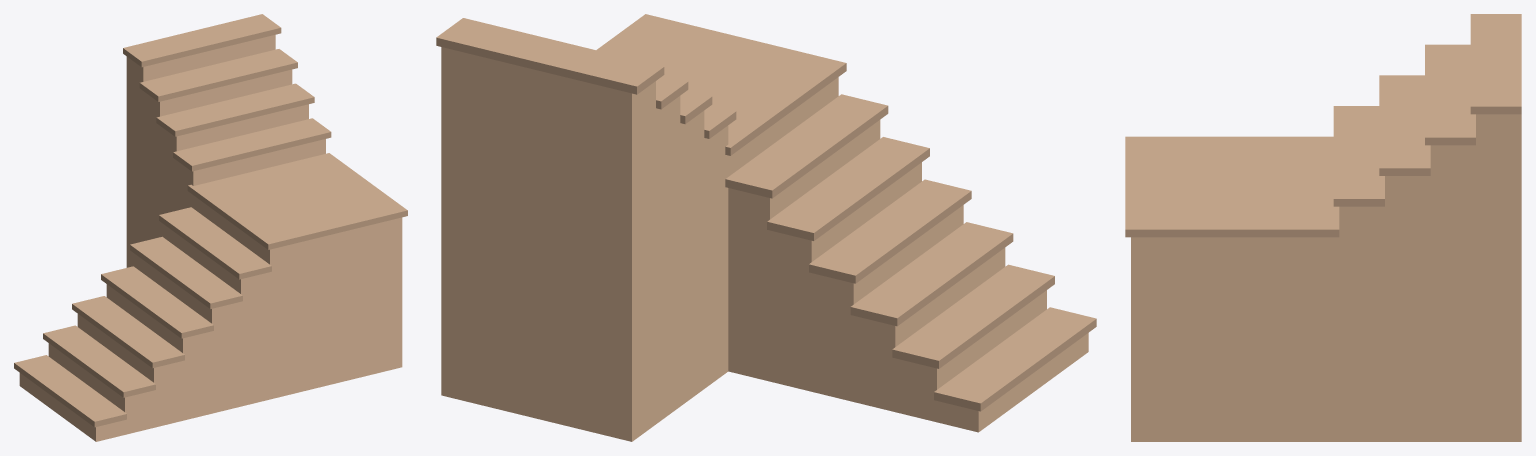
The model's file is stairsCorner.glb.
3 views of the same model, side by side, from view 1: azimuth 30°, elevation 25°; view 2: azimuth 150°, elevation 25°; view 3: azimuth 270°, elevation 25° (orthographic). The views are drawn at different scales.
Visible parts, largest first — view 1: stairsCorner(Clone); view 2: stairsCorner(Clone); view 3: stairsCorner(Clone).
Boxes of the visible parts, bbox=[...] form: stairsCorner(Clone): bbox=[14, 14, 407, 441]; stairsCorner(Clone): bbox=[436, 14, 1096, 441]; stairsCorner(Clone): bbox=[1125, 14, 1521, 441].
Bounding box in the file's own units: 1.77 × 1.34 × 1.43.
